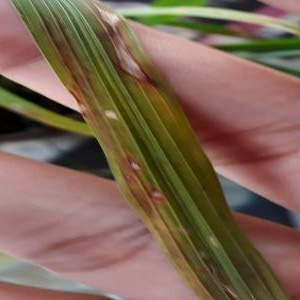Brown_Spot: (103, 36, 166, 84), (82, 1, 136, 44), (139, 184, 178, 209), (113, 156, 148, 182), (98, 102, 122, 125)
